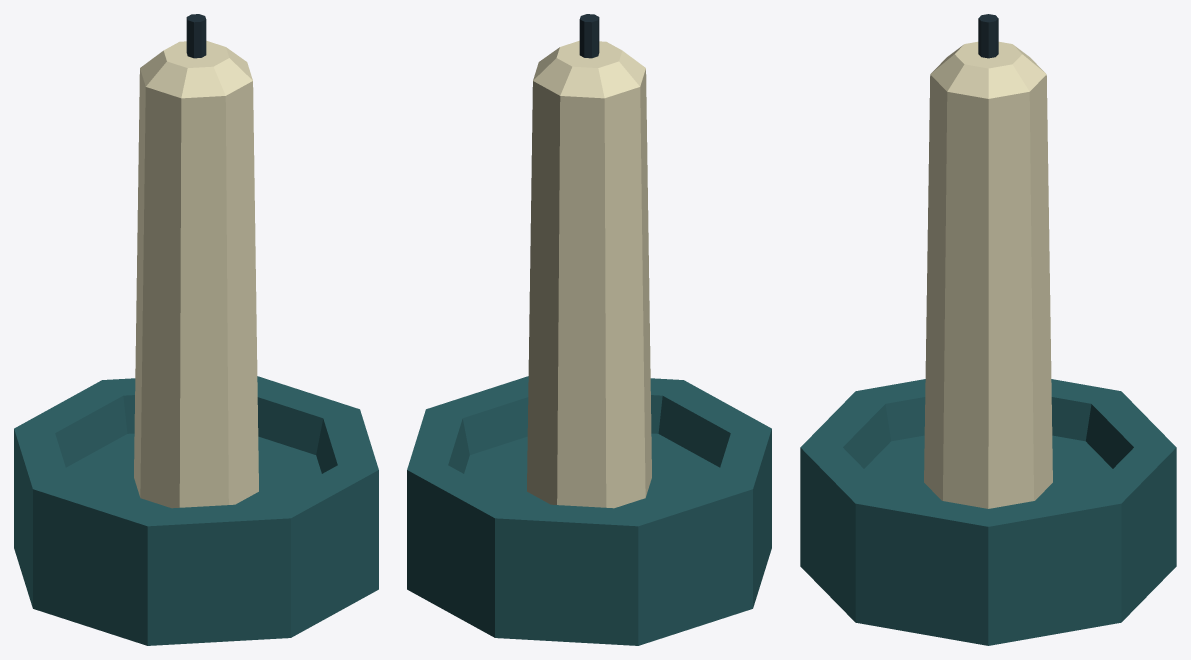
File: Prop_Candle02.fbx
3 views of the same model, side by side, from view 1: azimuth 30°, elevation 25°; view 2: azimuth 150°, elevation 25°; view 3: azimuth 270°, elevation 25° (orthographic).
Visible parts, largest first — view 1: Cylinder.027; view 2: Cylinder.027; view 3: Cylinder.027.
Part boxes in pixels (x1,y1,x2,y2): Cylinder.027: (14,14,378,645); Cylinder.027: (407,14,771,645); Cylinder.027: (800,14,1176,645).
Size of the model in its own units: 18.68 by 30.05 by 18.68.
